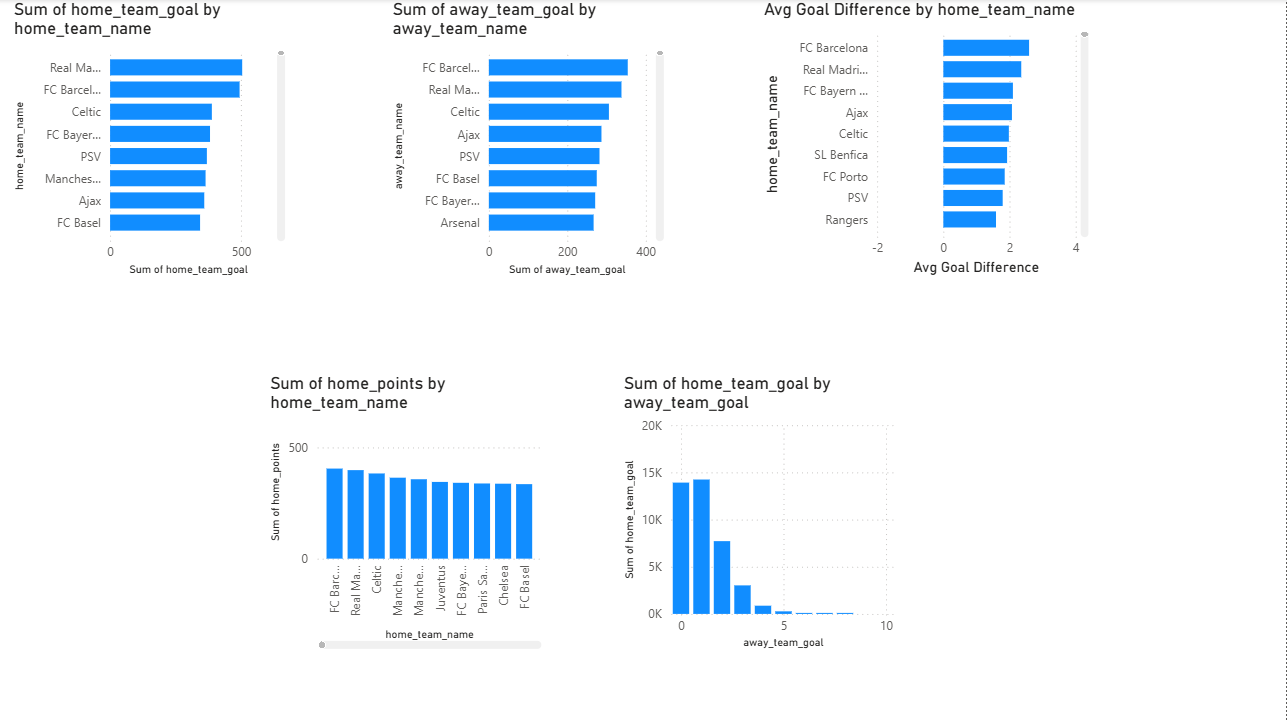

What the dashboard file says about the page in this screenshot:
{"tool":"powerbi","page":{"name":"Team Performance","canvas":[1280,720],"ordinal":1},"visuals":[{"type":"clusteredBarChart","fields":{"Category":["football_matches_cleaned.home_team_name"],"Y":["Sum(football_matches_cleaned.home_team_goal)"]},"box":[10,0,280,280],"z":0},{"type":"clusteredBarChart","fields":{"Category":["football_matches_cleaned.away_team_name"],"Y":["Sum(football_matches_cleaned.away_team_goal)"]},"box":[386.7,0,280,280],"z":1},{"type":"clusteredBarChart","fields":{"Category":["football_matches_cleaned.home_team_name"],"Y":["football_matches_cleaned.Avg Goal Difference"]},"box":[756.7,0,333.3,280],"z":2},{"type":"clusteredColumnChart","fields":{"Y":["Sum(football_matches_cleaned.home_team_goal)"],"Category":["football_matches_cleaned.away_team_goal"]},"box":[616.7,371.7,280,280],"z":3},{"type":"clusteredColumnChart","fields":{"Category":["football_matches_cleaned.home_team_name"],"Y":["Sum(football_matches_cleaned.home_points)"]},"box":[265,371.7,280,280],"z":4}]}

Visuals, with their boxes in screenshot pixels (x1, y1, x2, y2), scaled from the page's 1280x720 canvas onto the 1287x720 screenshot:
clusteredBarChart - football_matches_cleaned.home_team_name x Sum(football_matches_cleaned.home_team_goal): <region>10, 0, 292, 280</region>
clusteredBarChart - football_matches_cleaned.away_team_name x Sum(football_matches_cleaned.away_team_goal): <region>389, 0, 670, 280</region>
clusteredBarChart - football_matches_cleaned.home_team_name x football_matches_cleaned.Avg Goal Difference: <region>761, 0, 1096, 280</region>
clusteredColumnChart - Sum(football_matches_cleaned.home_team_goal) x football_matches_cleaned.away_team_goal: <region>620, 372, 902, 652</region>
clusteredColumnChart - football_matches_cleaned.home_team_name x Sum(football_matches_cleaned.home_points): <region>266, 372, 548, 652</region>
